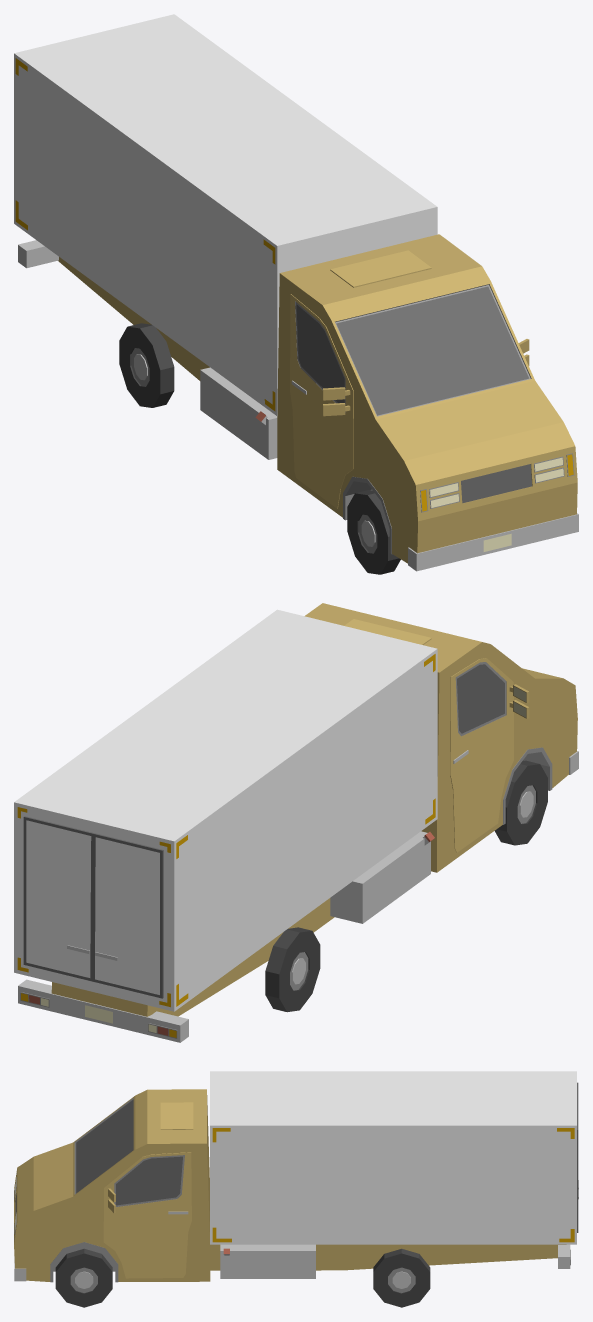
The model's file is truck_1.fbx.
3 renders of one model, top to bottom at view 1: azimuth 30°, elevation 25°; view 2: azimuth 150°, elevation 25°; view 3: azimuth 270°, elevation 25°, orthographic. The views are drawn at different scales.
Visible parts, largest first — view 1: wwq, Cylinder_2_3, Cylinder_2_1; view 2: wwq, Cylinder_2_3, Cylinder_2_1; view 3: wwq, Cylinder_2, Cylinder_2_2.
Boxes of the visible parts, x1,y1,x2,y2 form: wwq: (14, 14, 578, 571); Cylinder_2_3: (119, 323, 174, 407); Cylinder_2_1: (347, 490, 400, 574); wwq: (14, 603, 578, 1042); Cylinder_2_3: (265, 927, 320, 1012); Cylinder_2_1: (495, 760, 547, 845); wwq: (14, 1071, 578, 1282); Cylinder_2: (55, 1248, 112, 1307); Cylinder_2_2: (373, 1248, 430, 1307).
Size of the model in its own units: 169 by 205 by 576.
